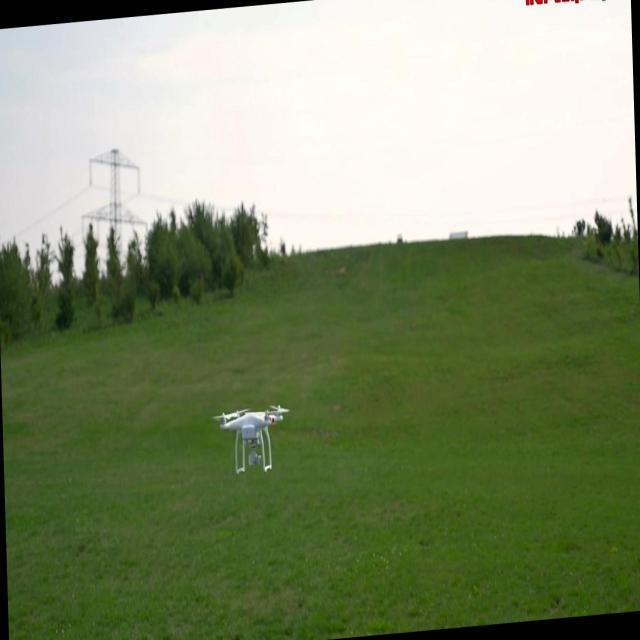drone: (211, 395, 288, 470)
